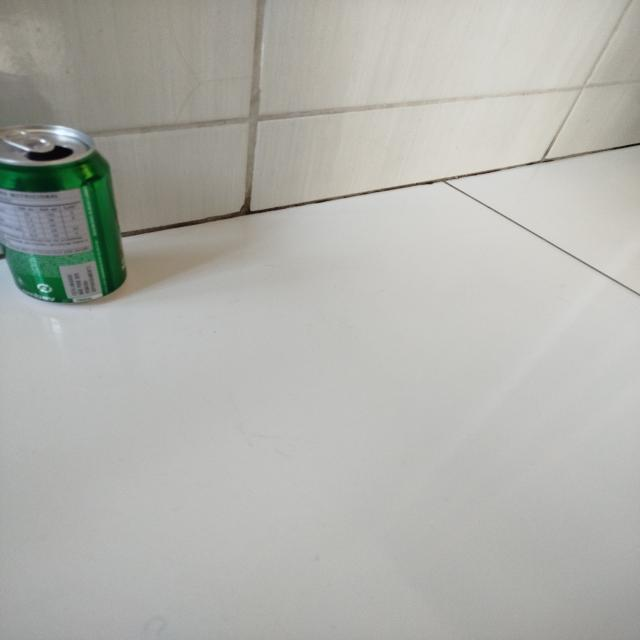Guarana: (2, 122, 127, 305)
